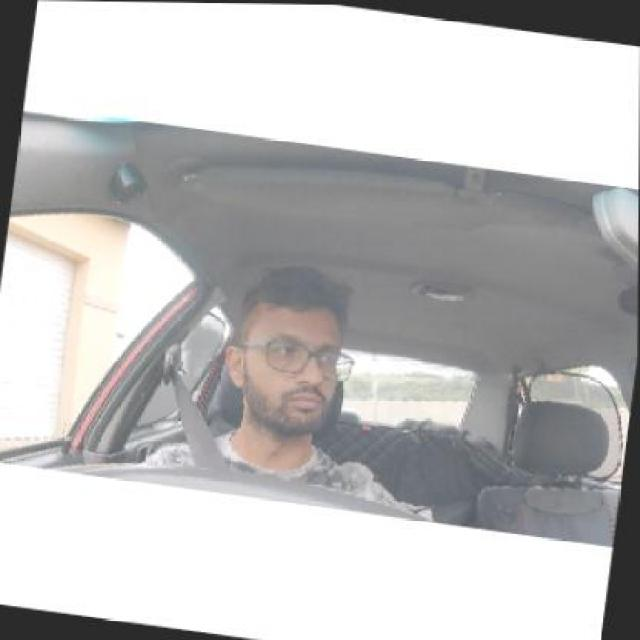person: (228, 278, 347, 432)
